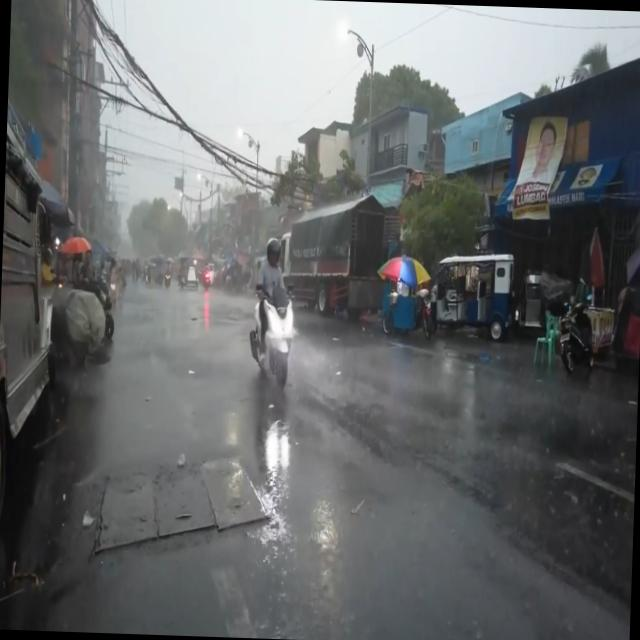half: (264, 238, 282, 268)
not_wearing: (84, 250, 92, 266)
